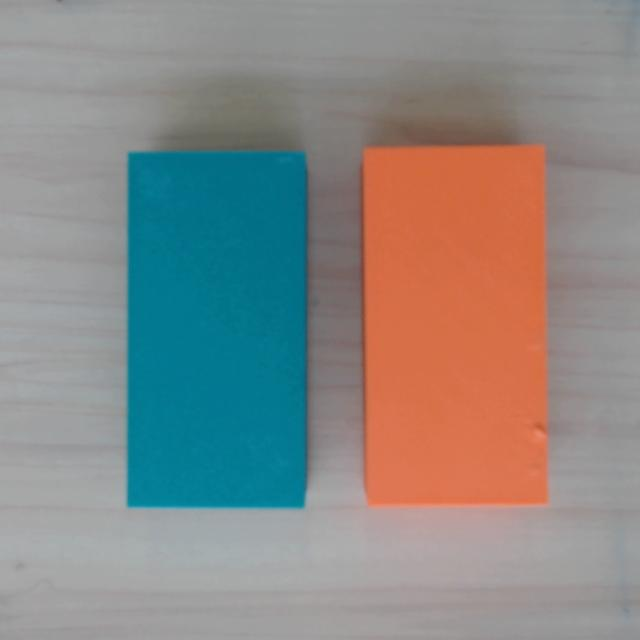Balok-Hijau-1005025: (128, 152, 306, 508)
Balok-Jingga-1005025: (360, 145, 549, 507)
